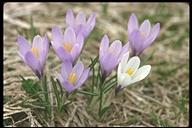flower: (14, 9, 160, 94)
grass: (7, 96, 187, 127), (155, 52, 188, 123)
